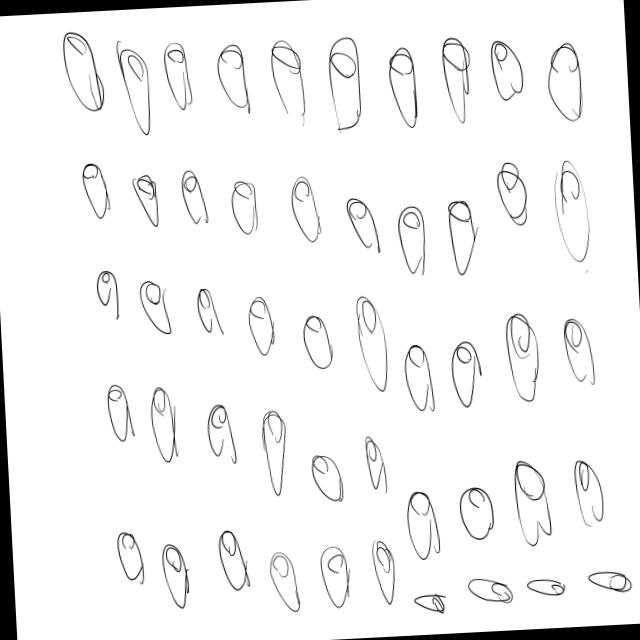Toggle: (538, 33, 600, 129), (548, 149, 596, 267), (321, 29, 364, 136), (551, 306, 598, 402), (382, 27, 422, 137), (352, 294, 395, 396), (512, 450, 552, 558), (564, 445, 616, 527), (266, 33, 308, 133), (112, 37, 153, 139), (252, 408, 296, 503), (142, 373, 185, 468), (394, 193, 435, 289), (501, 310, 542, 404), (212, 38, 255, 122), (436, 29, 472, 128), (401, 475, 440, 565), (486, 30, 528, 111), (314, 536, 358, 612), (454, 472, 498, 546), (444, 336, 488, 408), (156, 534, 196, 612), (212, 526, 255, 598), (240, 284, 278, 362), (442, 200, 482, 274), (202, 396, 242, 470), (306, 446, 351, 511), (296, 307, 336, 379), (286, 172, 324, 246), (135, 270, 175, 340), (224, 177, 264, 246), (160, 34, 193, 117), (268, 542, 304, 618), (113, 518, 149, 594), (495, 158, 531, 232), (402, 346, 434, 421), (104, 378, 136, 453), (193, 285, 231, 347), (365, 540, 399, 608), (345, 191, 380, 257), (79, 154, 114, 220), (88, 266, 125, 328), (360, 436, 393, 503), (180, 168, 212, 236), (128, 172, 164, 230), (582, 559, 638, 596), (464, 574, 516, 608), (524, 570, 570, 598), (412, 588, 448, 618), (100, 16, 101, 17)
